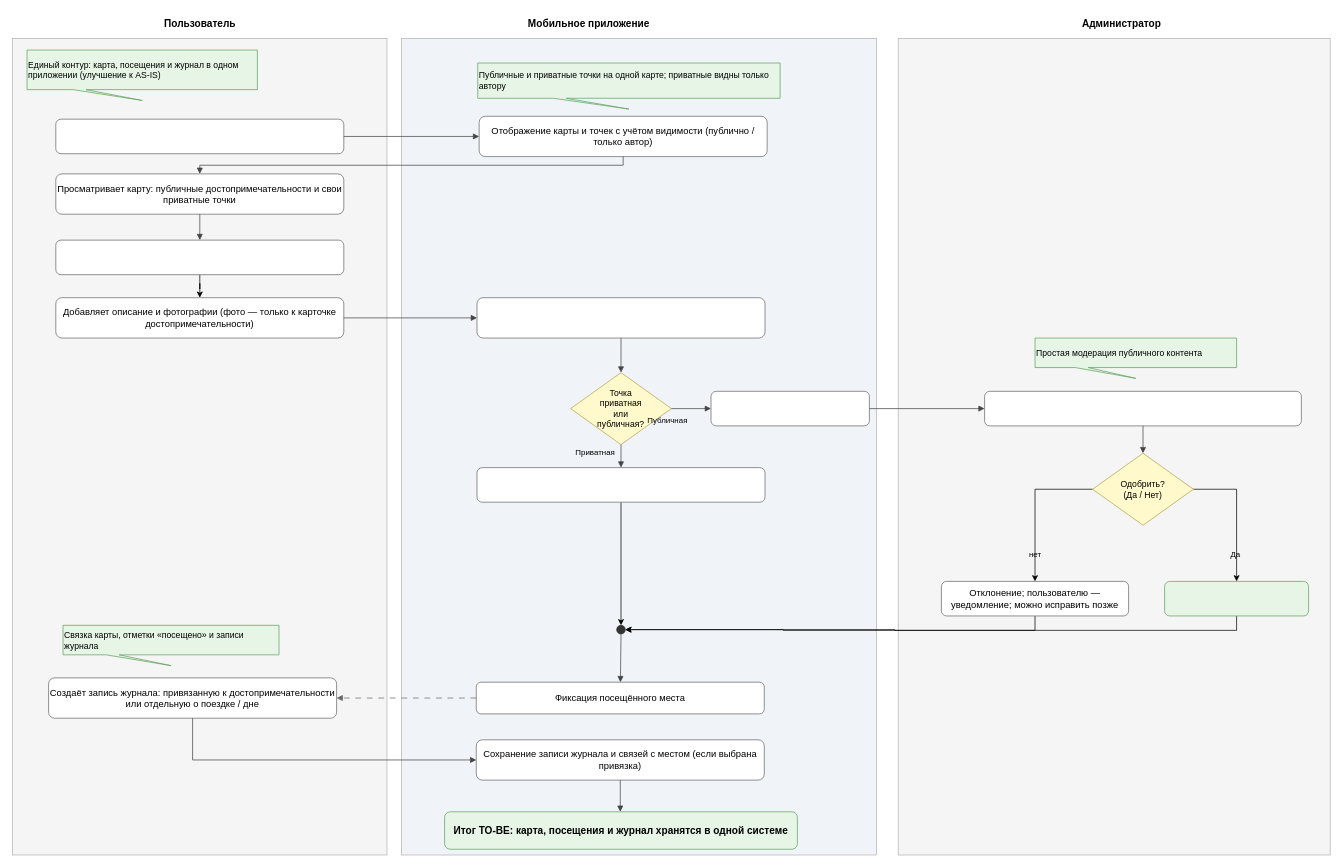
This 1343x868 diagram has some shape labels left out. Each missing label, with the centre of its shape:
Открывает мобильное приложение: (x=199, y=136)
Отправка публичной карточки на простую модерацию: (x=789, y=408)
При необходимости создаёт карточку достопримечательности: (x=199, y=257)
Проверяет карточку в очереди модерации: (x=1142, y=408)
Публикация: карточка доступна всем на общей карте: (x=1236, y=598)
Сохранение приватной точки; видна только автору: (x=620, y=484)
Сохранение текста и вложений карточки: (x=620, y=317)
